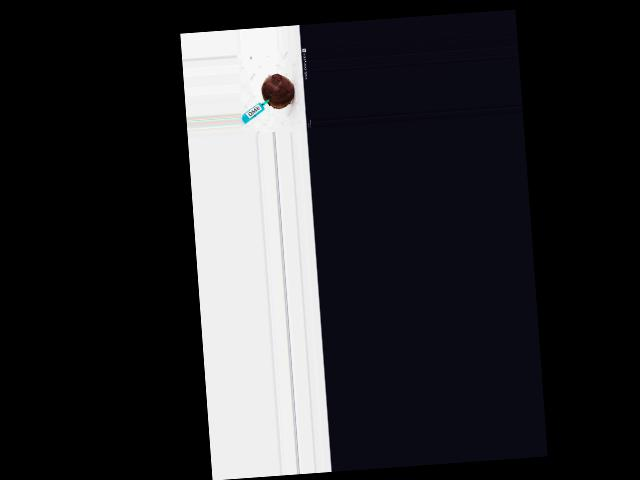beet: (260, 73, 295, 109)
